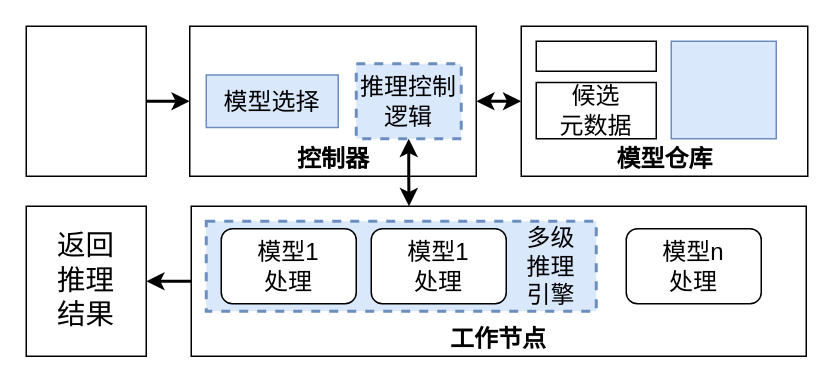
The diagram is 834 pixels wide and 387 high, and some of its shapes have lost their labels. The centre of each missing label's shape, as x and y in pixels:
"查询任务队列" goes at (x=85, y=100).
"模型存储" goes at (x=595, y=55).
"模型感知 离线分析" goes at (x=723, y=89).
